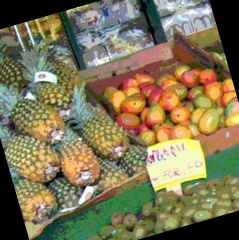Pineapple: (68, 83, 132, 163), (1, 83, 72, 147)
